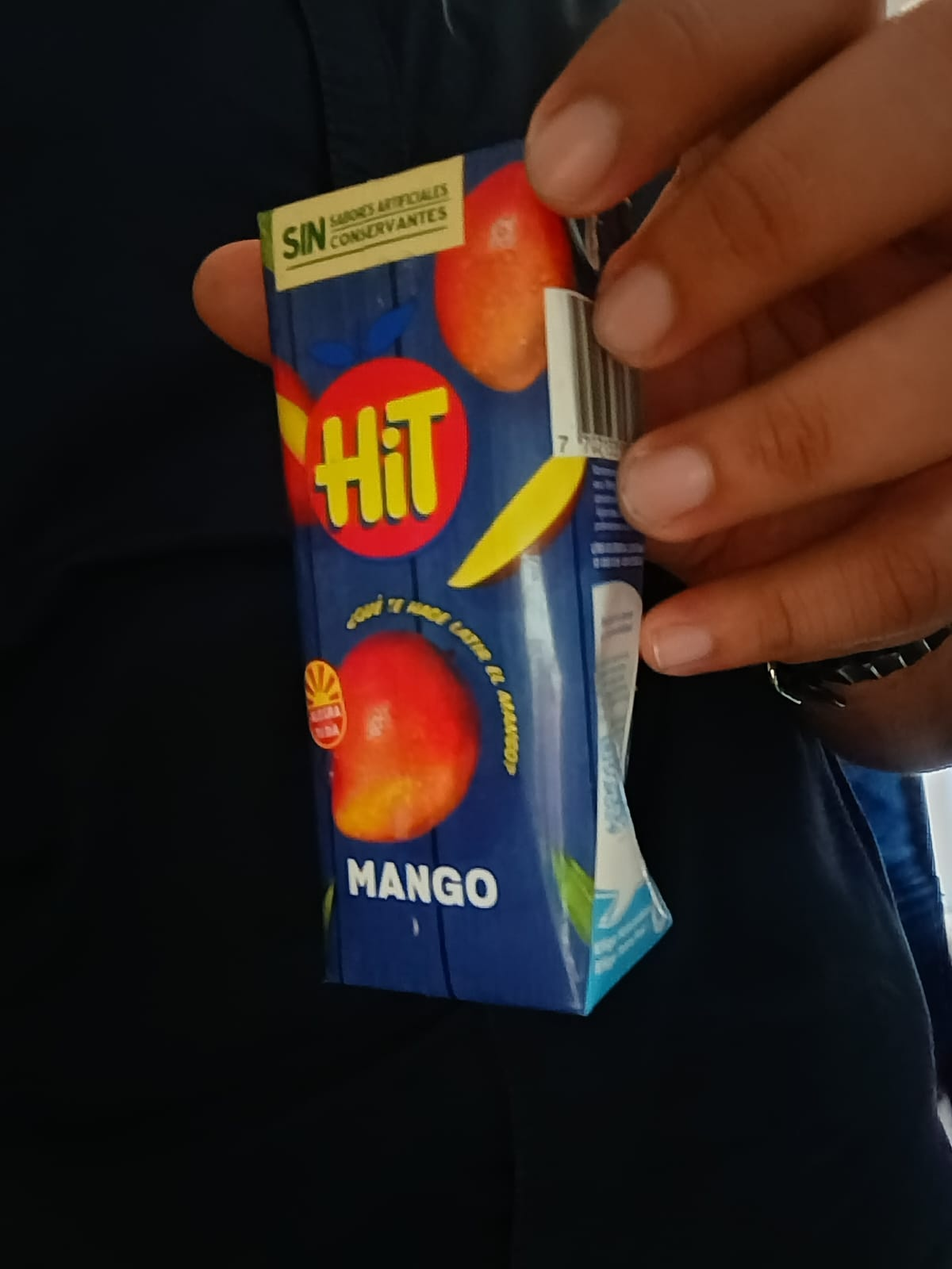Carton: (266, 149, 676, 1018)
